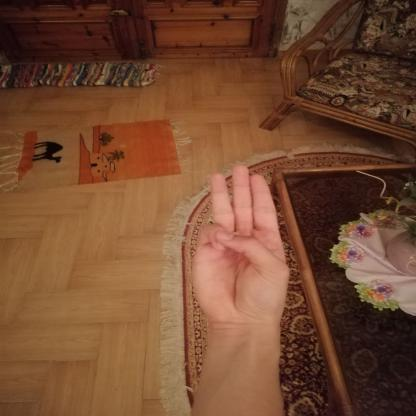THA: (178, 156, 305, 340)
